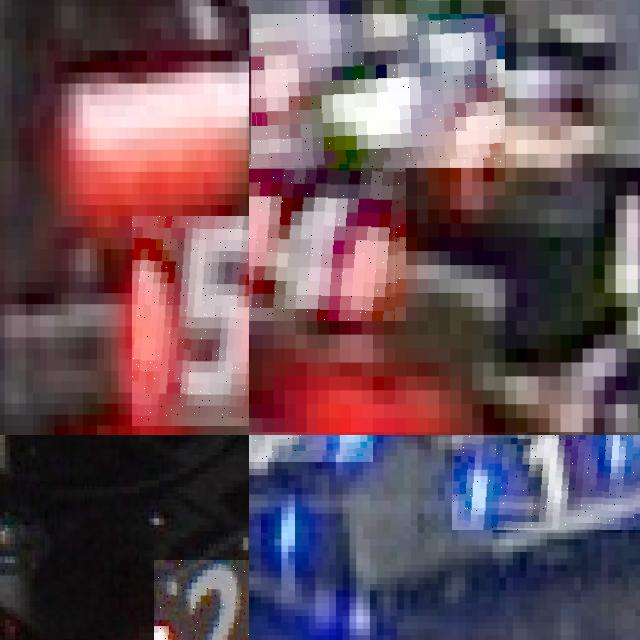B1: (451, 435, 640, 529), (249, 456, 312, 571)
R2: (154, 559, 249, 640)
R4: (252, 14, 506, 168), (249, 154, 405, 321)
R5: (132, 216, 249, 425)
